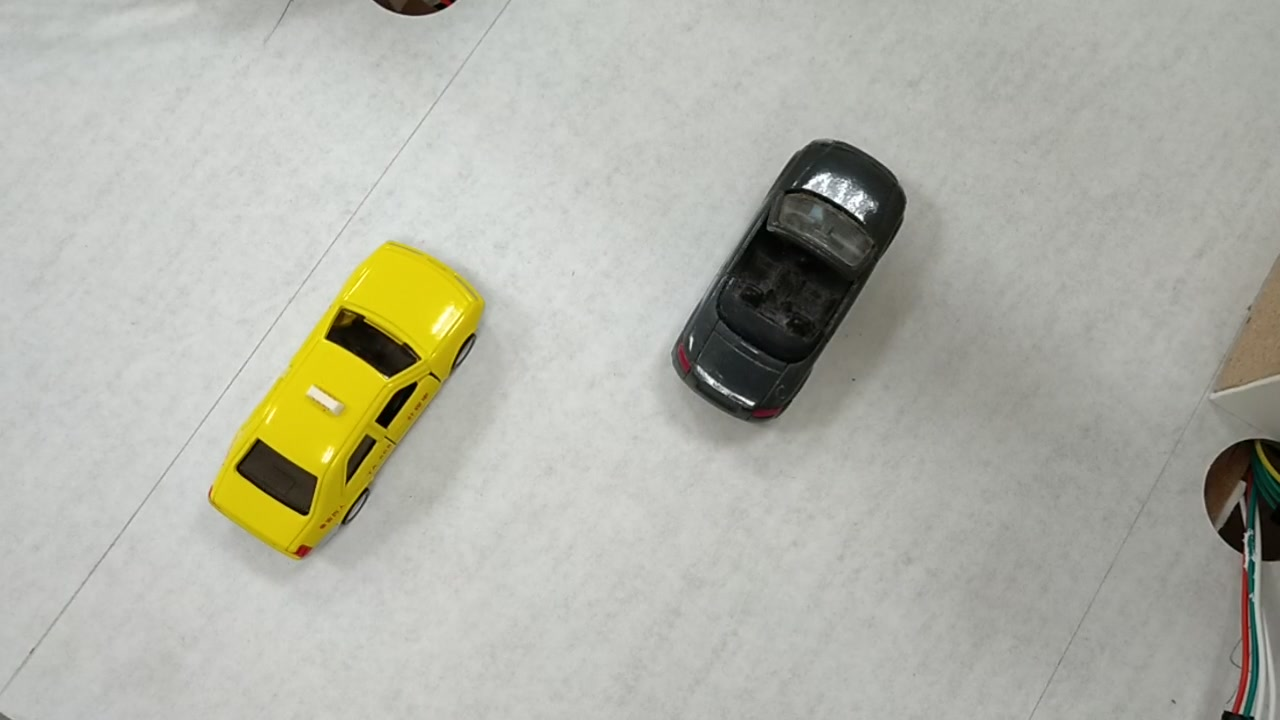car: (205, 244, 483, 557), (674, 156, 899, 416)
